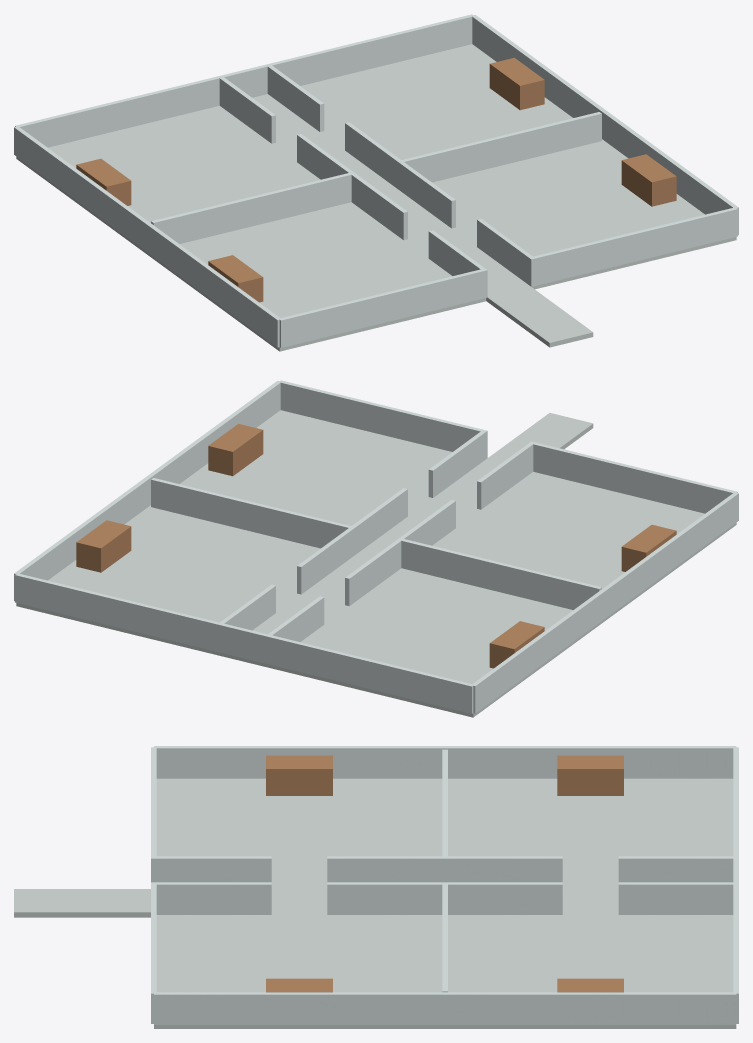
The model's file is revenue-cutaway.glb.
3 renders of one model, top to bottom at view 1: azimuth 30°, elevation 25°; view 2: azimuth 150°, elevation 25°; view 3: azimuth 270°, elevation 25°, orthographic. The views are drawn at different scales.
Parts seen in each view (by area): view 1: revenue/floor/cutaway.002, revenue/rear-wall/cutaway.002, revenue/outer--1/cutaway.002, revenue/outer-1/cutaway.002, revenue/entry-jamb--1/cutaway.002, revenue/entry-jamb-1/cutaway.002, revenue/room-divider--1/cutaway.002, revenue/room-divider-1/cutaway.002, revenue/portal-floor-0/cutaway.002, revenue/desk-1/cutaway.002, revenue/desk-3/cutaway.002, revenue/corridor-1-1-a/cutaway.002 (+9 smaller); view 2: revenue/floor/cutaway.002, revenue/rear-wall/cutaway.002, revenue/outer--1/cutaway.002, revenue/outer-1/cutaway.002, revenue/entry-jamb-1/cutaway.002, revenue/entry-jamb--1/cutaway.002, revenue/room-divider--1/cutaway.002, revenue/room-divider-1/cutaway.002, revenue/desk-3/cutaway.002, revenue/desk-1/cutaway.002, revenue/portal-floor-0/cutaway.002, revenue/corridor-1-1-b/cutaway.002 (+9 smaller); view 3: revenue/floor/cutaway.002, revenue/outer-1/cutaway.002, revenue/outer--1/cutaway.002, revenue/portal-floor-0/cutaway.002, revenue/corridor-1-1-a/cutaway.002, revenue/corridor-1-1-b/cutaway.002, revenue/corridor-1--1-a/cutaway.002, revenue/corridor-1--1-b/cutaway.002, revenue/corridor--1-1-a/cutaway.002, revenue/corridor--1-1-b/cutaway.002, revenue/corridor--1--1-b/cutaway.002, revenue/corridor--1--1-a/cutaway.002 (+9 smaller).
Boxes of the visible parts, x1=… form: revenue/floor/cutaway.002: x1=16, y1=44, x2=736, y2=351; revenue/rear-wall/cutaway.002: x1=15, y1=14, x2=473, y2=147; revenue/outer--1/cutaway.002: x1=14, y1=126, x2=280, y2=347; revenue/outer-1/cutaway.002: x1=471, y1=14, x2=738, y2=235; revenue/entry-jamb--1/cutaway.002: x1=279, y1=268, x2=487, y2=347; revenue/entry-jamb-1/cutaway.002: x1=529, y1=208, x2=737, y2=286; revenue/room-divider--1/cutaway.002: x1=151, y1=173, x2=351, y2=243; revenue/room-divider-1/cutaway.002: x1=401, y1=112, x2=601, y2=182; revenue/portal-floor-0/cutaway.002: x1=486, y1=286, x2=593, y2=347; revenue/desk-1/cutaway.002: x1=621, y1=154, x2=676, y2=206; revenue/desk-3/cutaway.002: x1=489, y1=57, x2=544, y2=110; revenue/corridor-1-1-a/cutaway.002: x1=398, y1=161, x2=455, y2=228; revenue/floor/cutaway.002: x1=16, y1=410, x2=736, y2=717; revenue/rear-wall/cutaway.002: x1=15, y1=573, x2=473, y2=713; revenue/outer--1/cutaway.002: x1=471, y1=493, x2=738, y2=713; revenue/outer-1/cutaway.002: x1=14, y1=380, x2=280, y2=601; revenue/entry-jamb-1/cutaway.002: x1=279, y1=380, x2=487, y2=458; revenue/entry-jamb--1/cutaway.002: x1=530, y1=441, x2=737, y2=513; revenue/room-divider--1/cutaway.002: x1=401, y1=539, x2=601, y2=609; revenue/room-divider-1/cutaway.002: x1=151, y1=478, x2=351, y2=548; revenue/desk-3/cutaway.002: x1=76, y1=520, x2=131, y2=572; revenue/desk-1/cutaway.002: x1=208, y1=423, x2=263, y2=476; revenue/portal-floor-0/cutaway.002: x1=487, y1=413, x2=593, y2=462; revenue/corridor-1-1-b/cutaway.002: x1=428, y1=430, x2=486, y2=497; revenue/floor/cutaway.002: x1=154, y1=778, x2=736, y2=1028; revenue/outer-1/cutaway.002: x1=154, y1=992, x2=736, y2=1024; revenue/outer--1/cutaway.002: x1=154, y1=746, x2=736, y2=778; revenue/portal-floor-0/cutaway.002: x1=14, y1=889, x2=150, y2=917; revenue/corridor-1-1-a/cutaway.002: x1=327, y1=882, x2=444, y2=914; revenue/corridor-1-1-b/cutaway.002: x1=154, y1=882, x2=271, y2=914; revenue/corridor-1--1-a/cutaway.002: x1=618, y1=882, x2=736, y2=914; revenue/corridor-1--1-b/cutaway.002: x1=445, y1=882, x2=562, y2=914; revenue/corridor--1-1-a/cutaway.002: x1=327, y1=856, x2=444, y2=882; revenue/corridor--1-1-b/cutaway.002: x1=154, y1=856, x2=271, y2=882; revenue/corridor--1--1-b/cutaway.002: x1=445, y1=856, x2=562, y2=882; revenue/corridor--1--1-a/cutaway.002: x1=618, y1=856, x2=736, y2=882.
Size of the model in its own units: 15.84 by 1.05 by 19.51.
